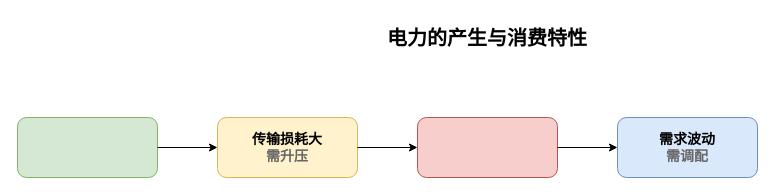
Image size: 775x195. Some labels were removed from this diagram. Here are the shapes that lost their labels. From the top down, the centre of each, then its label:
pixel 87 147: 发电厂 偏远地区
pixel 487 147: 用户 城市/工业区
